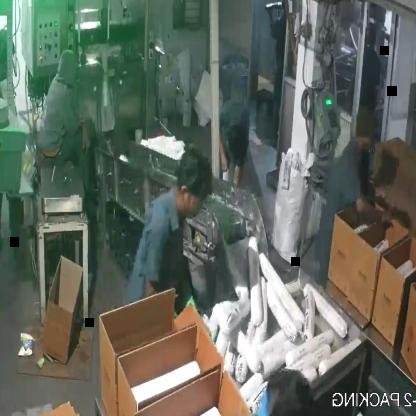no_glove: (338, 193, 402, 230), (231, 150, 246, 200), (215, 126, 229, 179), (76, 115, 90, 161)
